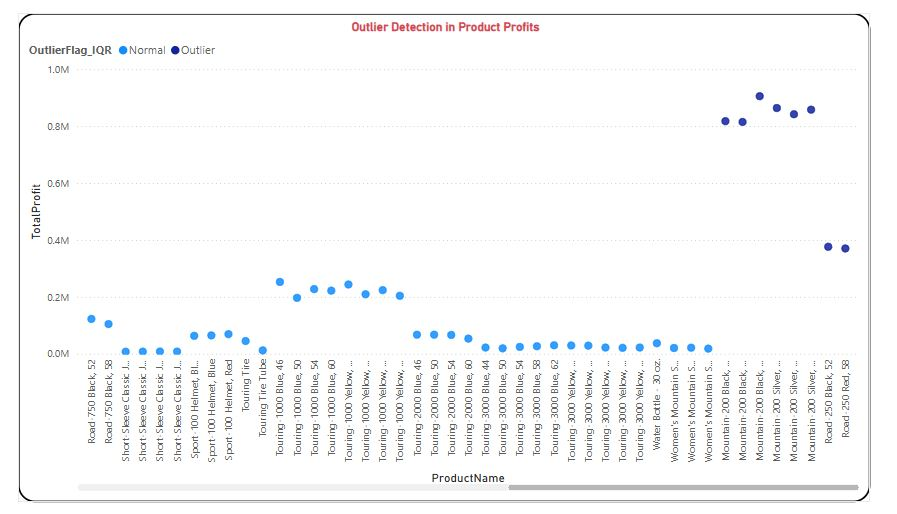

The page's visual inventory and layout, read from the dashboard file:
{"tool":"powerbi","page":{"name":"Outlier Detection","canvas":[1280,720],"ordinal":2},"visuals":[{"type":"scatterChart","title":"Outlier Detection in Product Profits","fields":{"X":["ProductProfitSummary.ProductName"],"Y":["Sum(ProductProfitSummary.TotalProfit)"],"Series":["ProductProfitSummary.OutlierFlag_IQR"]},"box":[174.9,69,1013.5,581.7],"z":0}]}

Visuals, with their boxes in screenshot pixels (x1, y1, x2, y2), scaled from the page's 1280x720 canvas onto the 897x514 screenshot:
"Outlier Detection in Product Profits" scatterChart: 123 49 833 465
